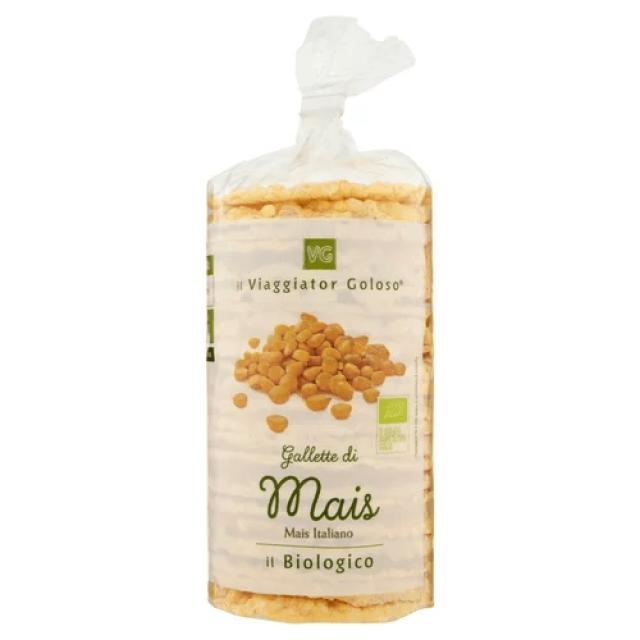Bread loaf: (205, 15, 436, 627)
